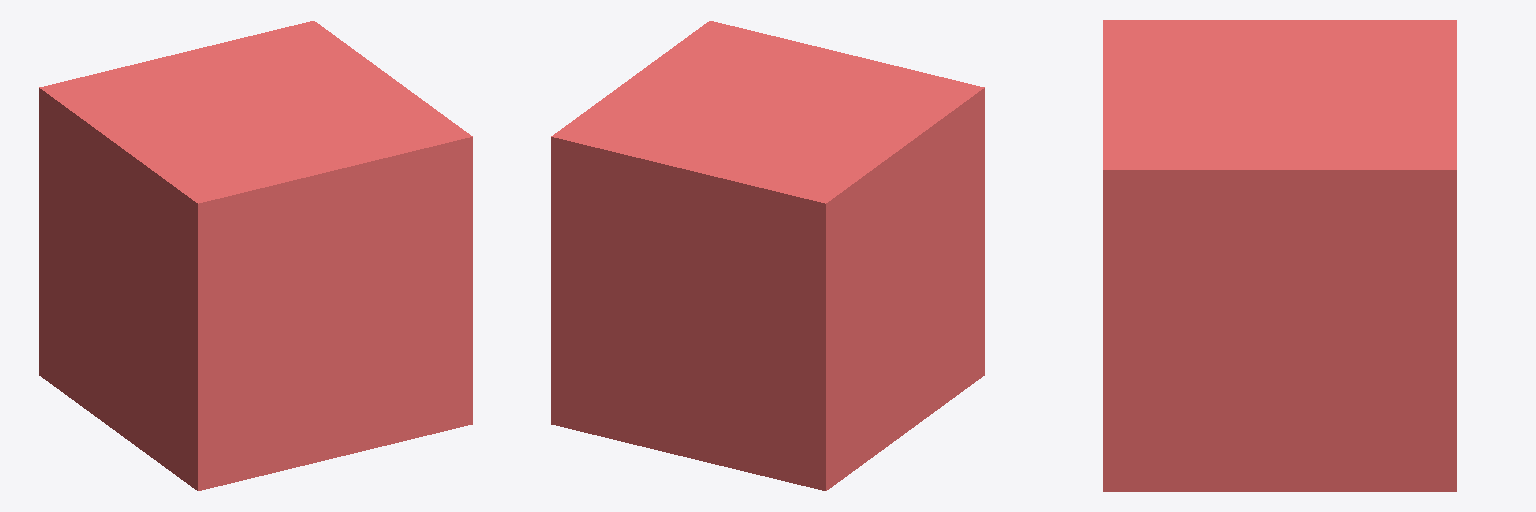
robot.urdf — cube:
<?xml version="1.0"?>
<robot name="cube">
  <link name="cube">
    <inertial>
        <origin xyz="0.09 0.035 0" rpy="0 0 0" />
        <mass value="0.113" />
        <inertia ixx="1.8e-05" ixy="0" ixz="0" iyy="1.8e-05" iyz="0" izz="1.8e-05" />
    </inertial>

    <visual name="cube_visual">
        <origin xyz="0.09 0.035 0" rpy="0 0 0" />
        <geometry>
            <box size="0.064 0.064 0.064"/>
        </geometry>
        <material name="red">
            <color rgba="1 0.5 0.5 1"/>
        </material>
    </visual>

    <collision name="cube_collision">
        <origin xyz="0.09 0.035 0" rpy="0 0 0" />
        <geometry>
            <box size="0.04 0.04 0.04"/>
        </geometry>
        <surface>
            <friction>
                <ode>
                    <mu>20.0</mu>
                    <mu2>20.0</mu2>
                </ode>
            </friction>
            <contact>
                <ode>
                    <kp>1000.0</kp>
                    <kd>1.0</kd>
                    <max_vel>0.05</max_vel>
                    <min_depth>0.001</min_depth>
                </ode>
            </contact>
        </surface>
    </collision>

    <dynamics>
        <damping>0.05</damping>
        <friction>1.0</friction>
    </dynamics>
  </link>

  <gazebo reference="cube">
    <material>Gazebo/Blue</material>
    <mu1>20.0</mu1>
    <mu2>20.0</mu2>
    <kp>1000.0</kp>
    <kd>1.0</kd>
    <restitution_coefficient>0.0</restitution_coefficient>
    <maxContacts>10</maxContacts>
    <stop_cfm>0.0</stop_cfm>
    <stop_erp>0.2</stop_erp>
    <minDepth>0.001</minDepth>
    <max_vel>0.05</max_vel>
  </gazebo>
</robot>

--- What the picture shows (computed from the rendered views, not written in the file) ---
Views: 3 orthographic renders of the robot side by side, from view 1: azimuth 30°, elevation 25°; view 2: azimuth 150°, elevation 25°; view 3: azimuth 270°, elevation 25°.
Model cube with 1 links and 0 joints (none), rooted at cube, posed every joint at zero.
Links seen in each view (by area): view 1: cube; view 2: cube; view 3: cube.
Link boxes in pixels (left/top/right/bottom): cube: left=39, top=21, right=472, bottom=490; cube: left=551, top=21, right=984, bottom=490; cube: left=1103, top=20, right=1456, bottom=491.
Size in the robot's own frame: 0.064 by 0.064 by 0.064 metres.
Geometry: primitives only (box / cylinder / sphere), no mesh files.